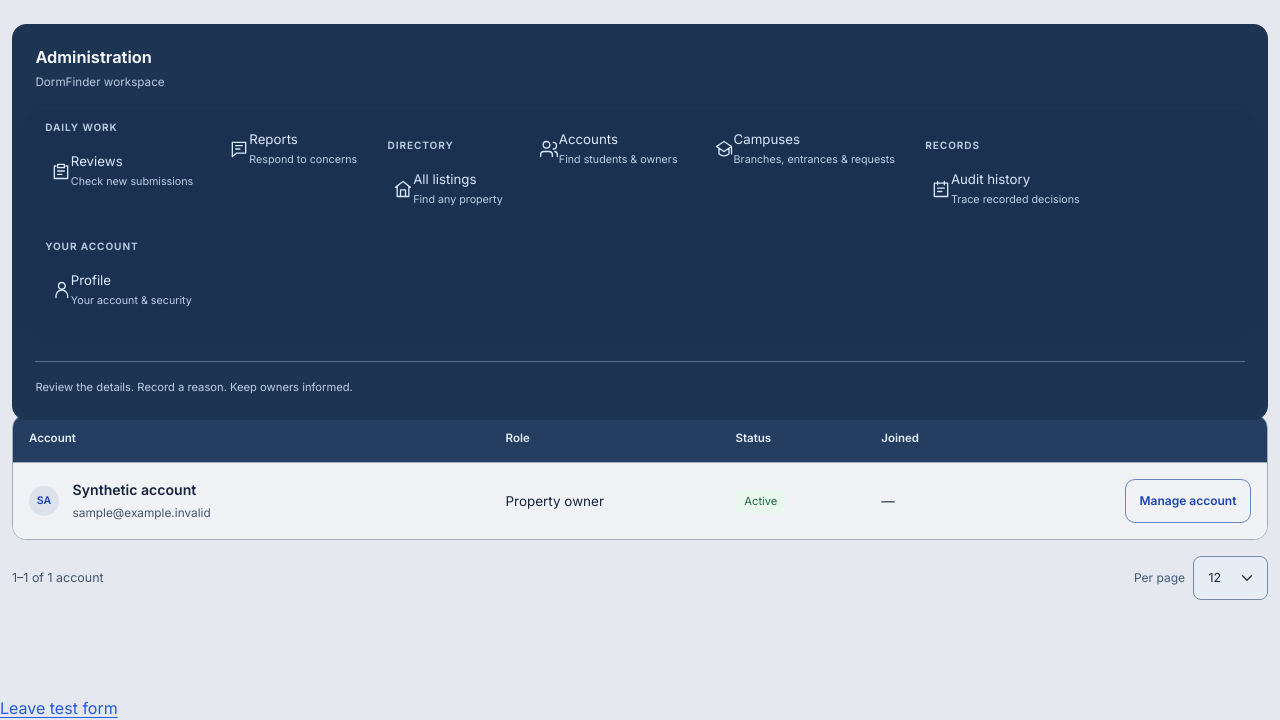
Test case: remaining moderation edit guards › protects focused account moderation notes on dismissal and failed saves
This screenshot has width=1280, height=720.
(page scrolled)
Click the button with aria-label "Manage account: Synthetic account" at (1188, 501), box x1=1125 y1=479 x2=1251 y2=523
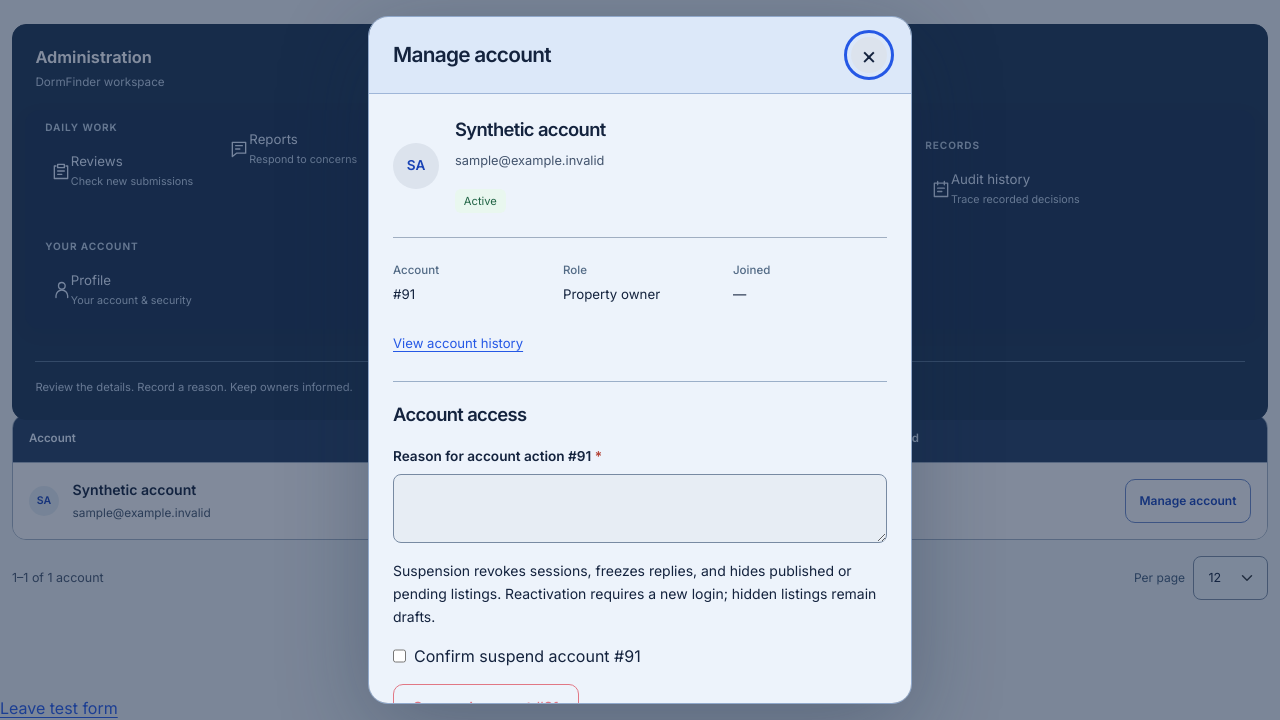
Type "Synthetic account review notes." into the text box labelled "Reason for account action #91" at (640, 508), box x1=393 y1=474 x2=887 y2=542
Click the button named "Close manage account" at (869, 55), box x1=851 y1=37 x2=887 y2=73
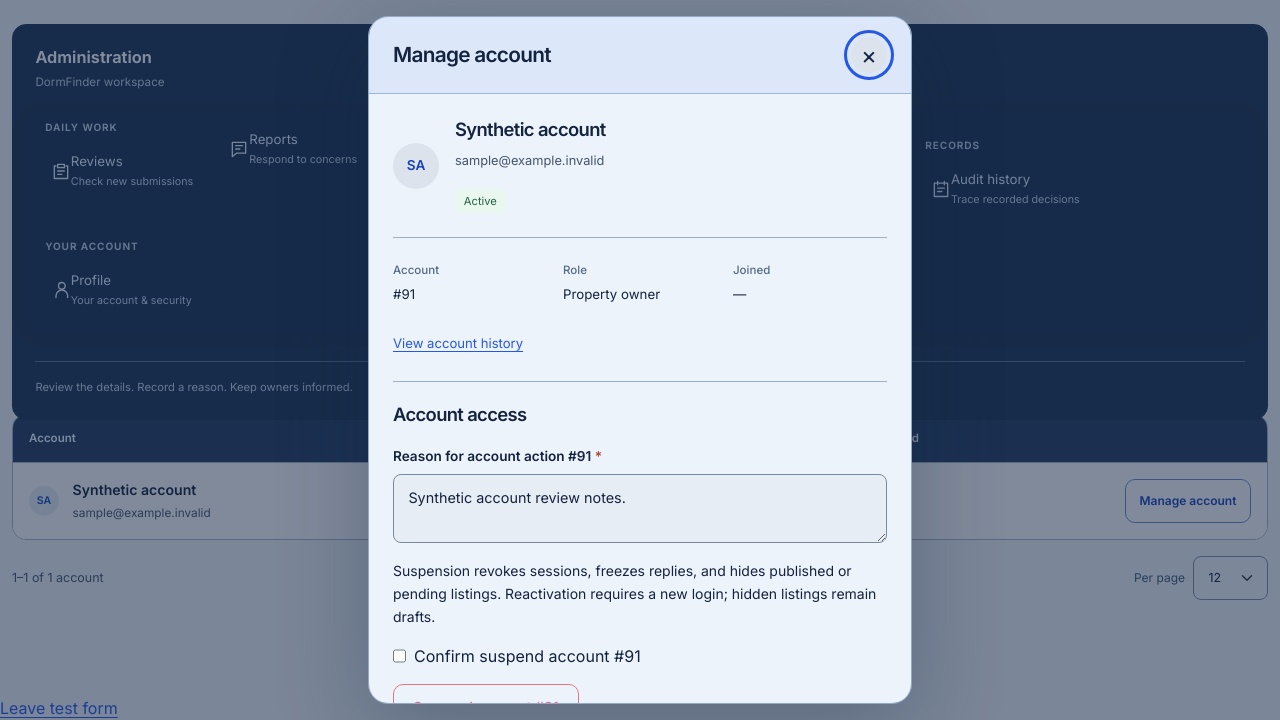
Click the checkbox labelled "Confirm suspend account #91" at (400, 656), box x1=393 y1=644 x2=406 y2=668
(page scrolled)
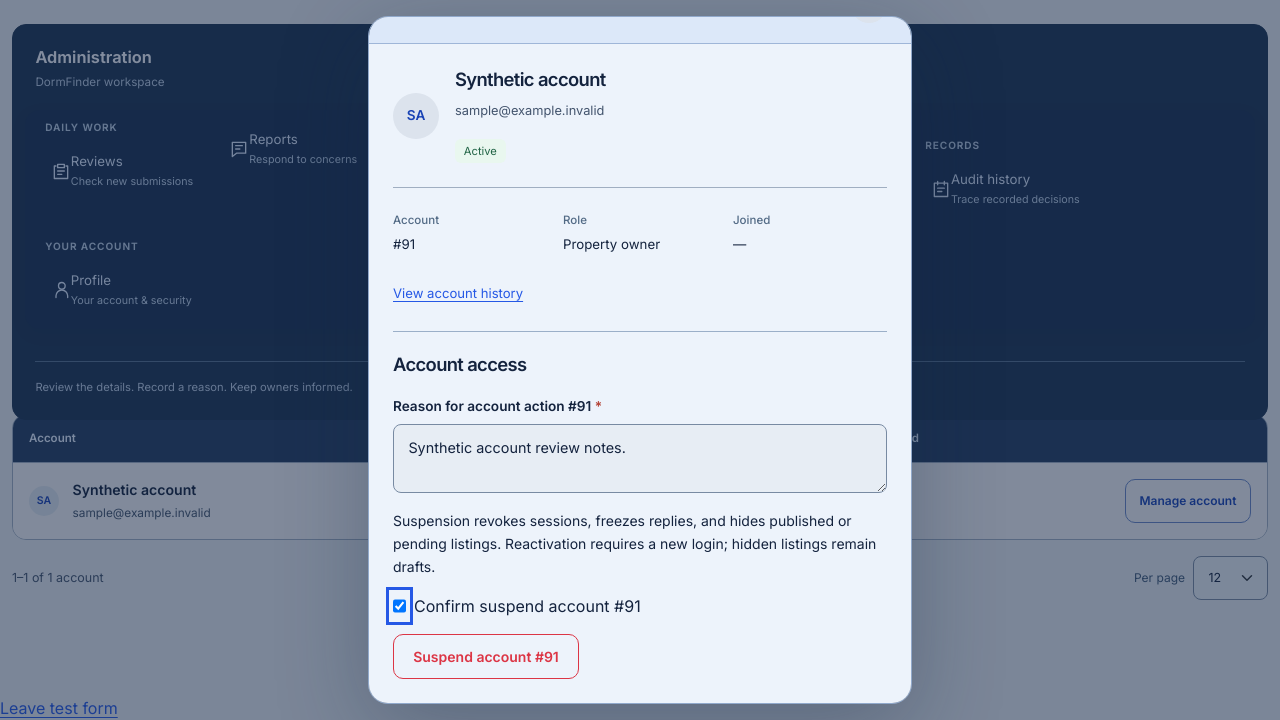
Click the button "Suspend account #91" at (486, 656), box x1=393 y1=634 x2=579 y2=679
(page scrolled)
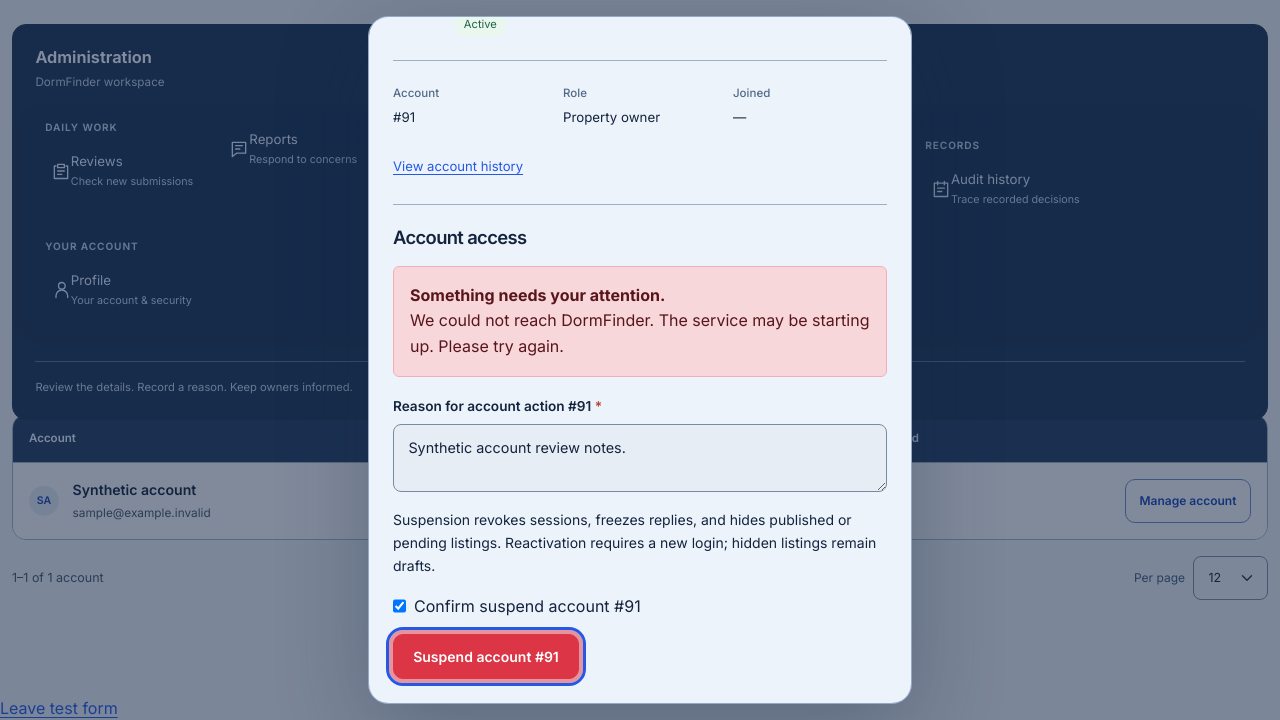
Expected: the message is shown, x1=393 y1=266 x2=887 y2=377
Click the button "Suspend account #91" at (486, 656), box x1=393 y1=634 x2=579 y2=679
(page scrolled)
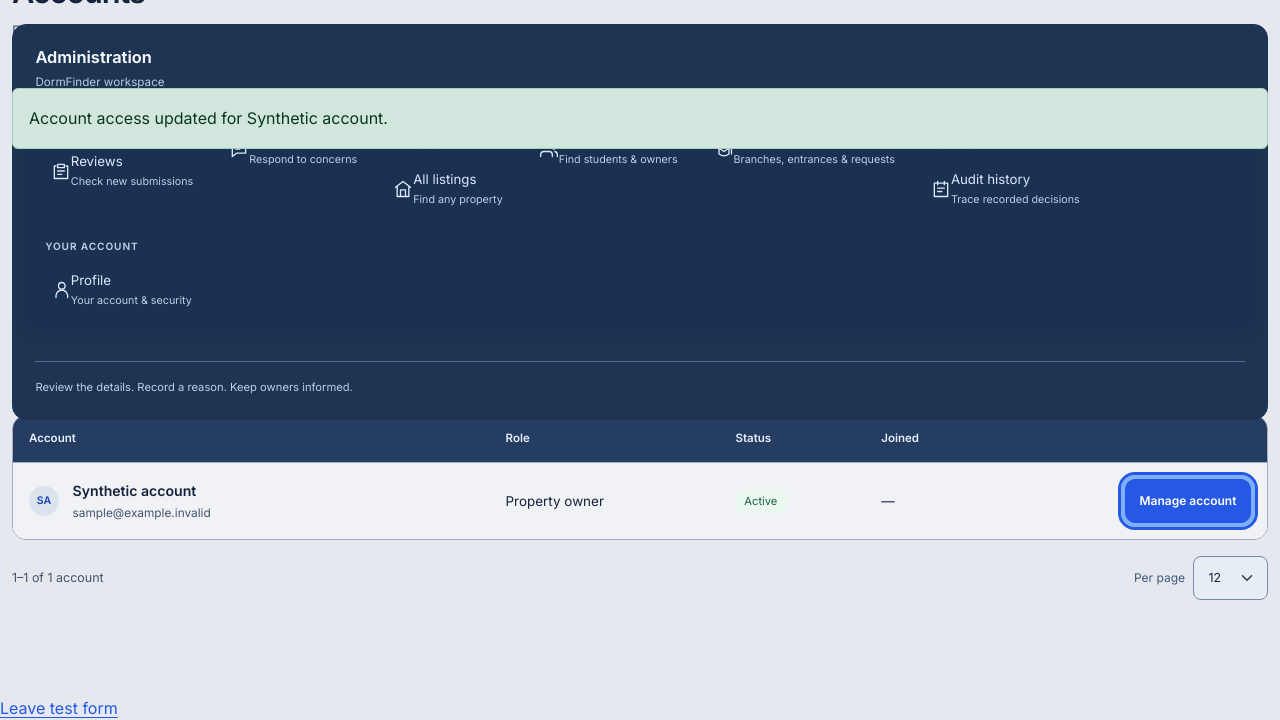
Click the link "Leave test form" at (59, 708), box x1=0 y1=698 x2=118 y2=718
(page scrolled)
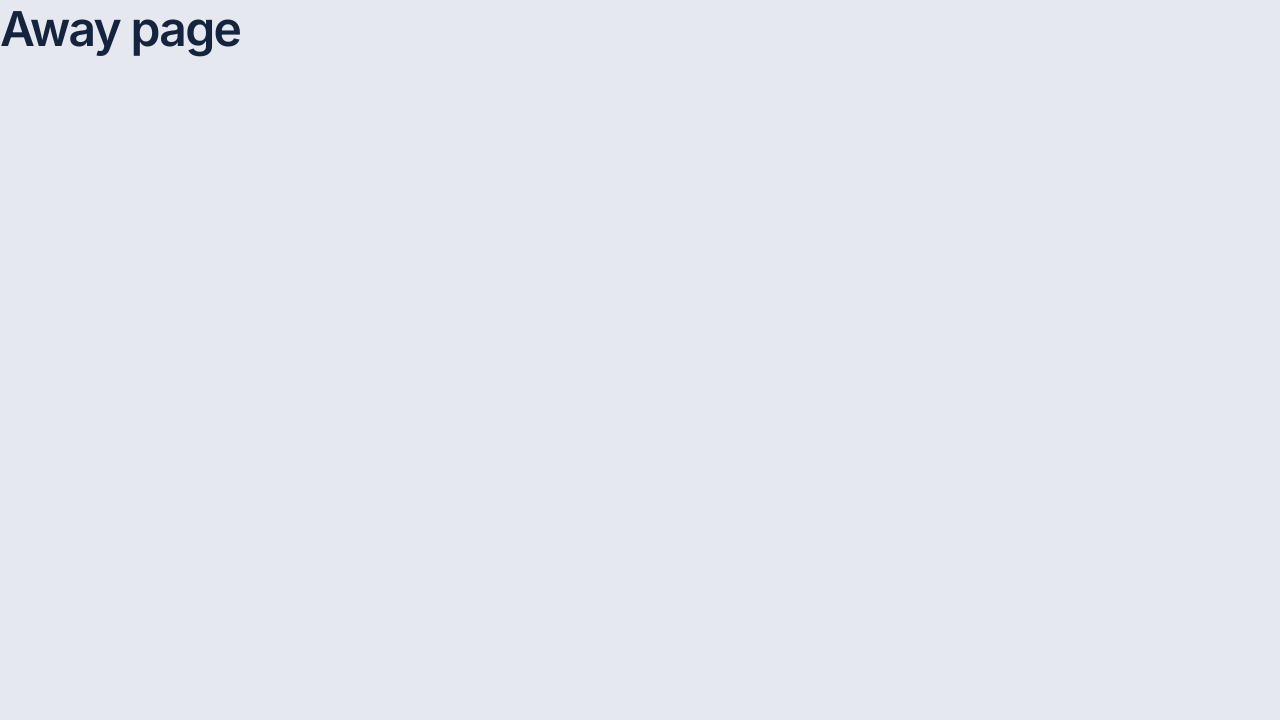
Expected: the heading "Away page" is shown, x1=0 y1=0 x2=240 y2=58
